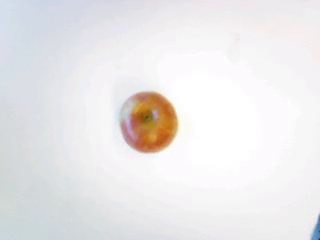apple: (118, 89, 178, 152)
